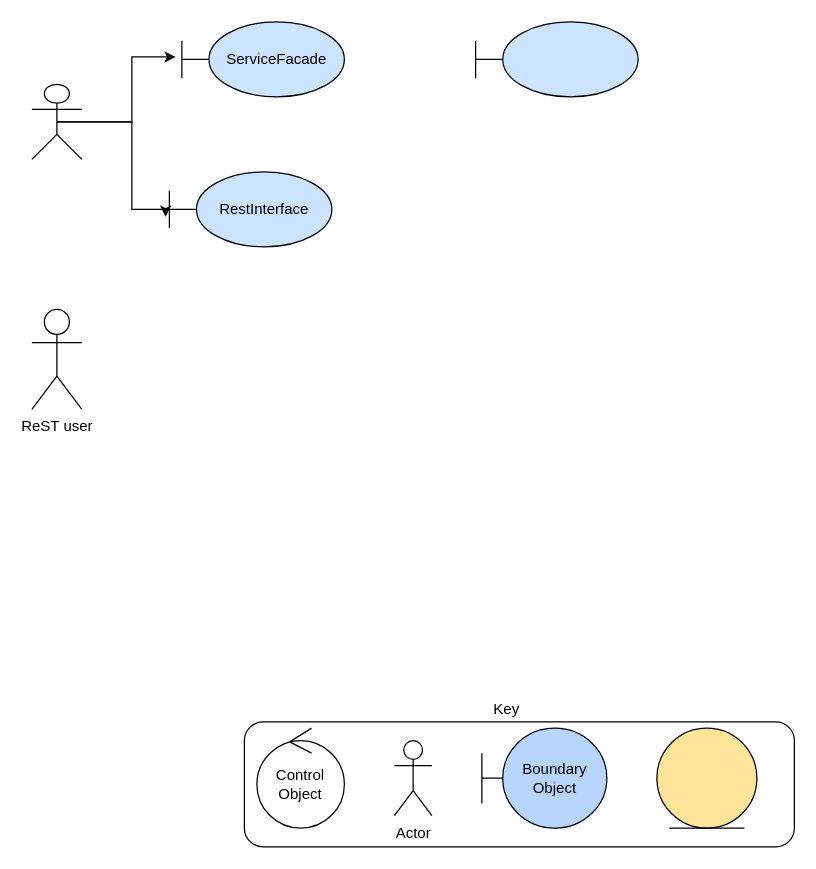
This 816x869 diagram has some shape labels left out. The shapes that lost their labels are listed below. From the top down, each one's box as (x1, y1, x2, y2) in pixels, then its label:
(474, 21, 638, 97): EntityDAO
(31, 83, 82, 159): Web User
(656, 727, 757, 828): Entity Object
